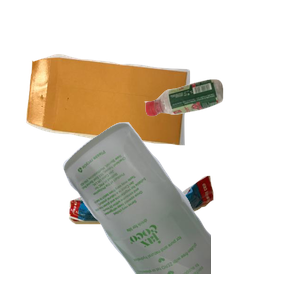glass: (60, 120, 300, 300)
paper: (23, 51, 206, 189)
plastic: (142, 77, 300, 186)
trash: (66, 173, 272, 300)
